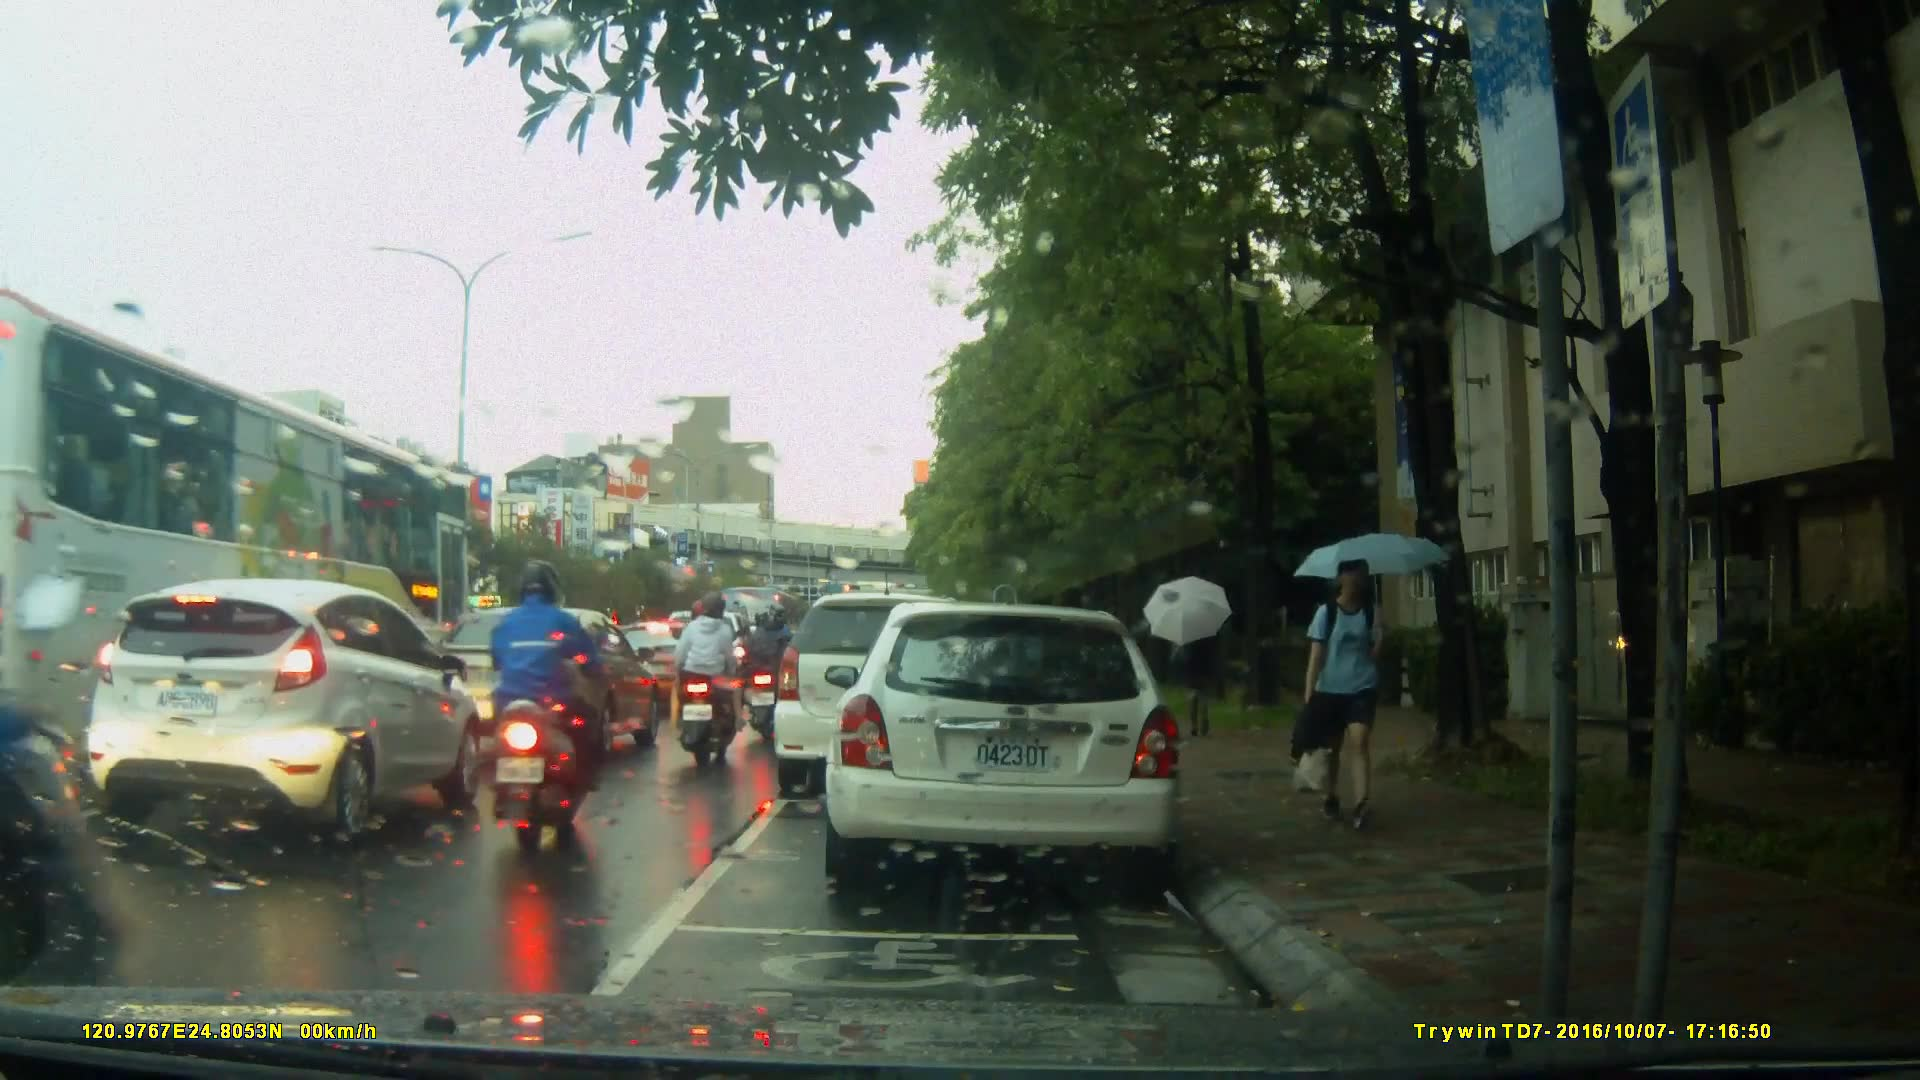pedestrian: (1286, 548, 1409, 828), (1171, 607, 1224, 736)
rider: (494, 561, 603, 842), (676, 592, 750, 778), (743, 603, 784, 743)
vehicle: (1, 294, 490, 805), (82, 575, 485, 846), (835, 594, 1194, 898), (776, 590, 1026, 784), (402, 604, 653, 759), (606, 619, 729, 714)
